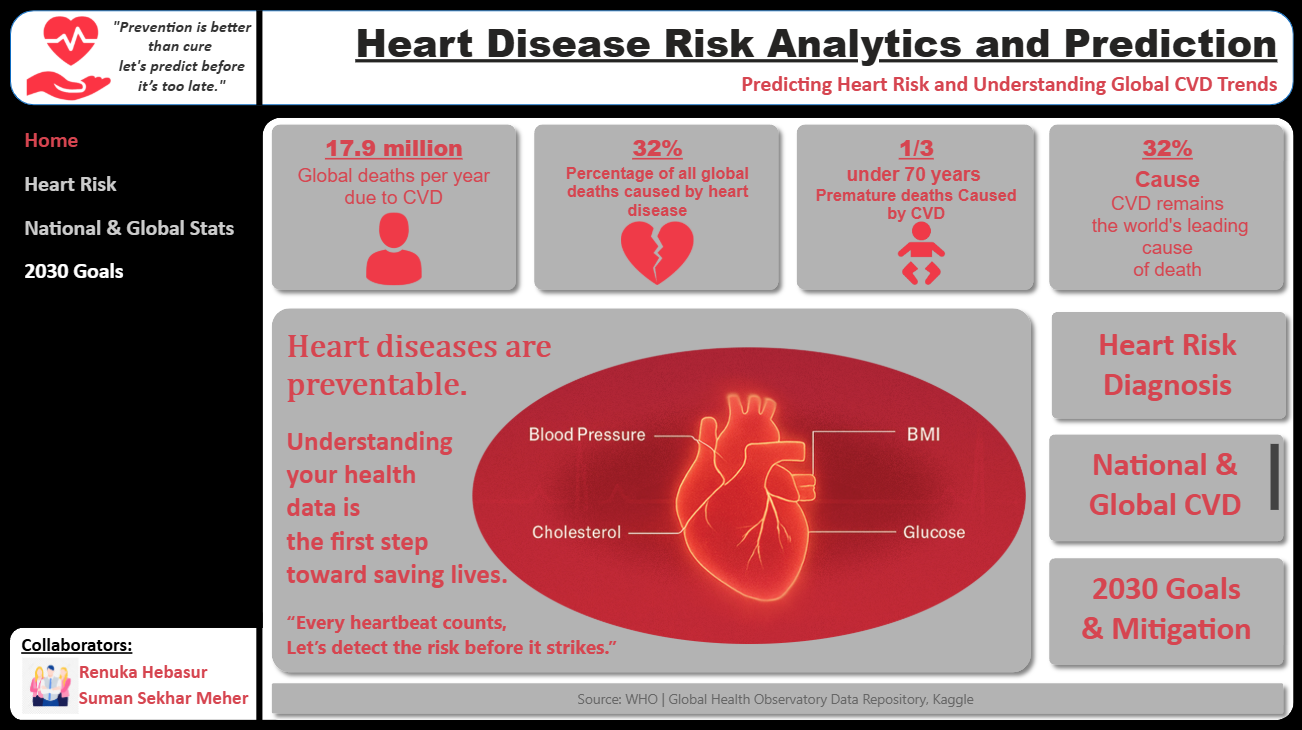

The page's visual inventory and layout, read from the dashboard file:
{"tool":"powerbi","page":{"name":"Home","canvas":[1280,720],"ordinal":0},"visuals":[{"type":"shape","box":[9.8,11,1260.1,93.3],"z":0},{"type":"textbox","box":[88.3,11,1170.6,93.3],"z":2000},{"type":"actionButton","box":[9.8,116.6,238,42.9],"z":3000},{"type":"actionButton","box":[9.8,159.5,238,42.9],"z":4000},{"type":"actionButton","box":[9.8,202.5,238,42.9],"z":5000},{"type":"actionButton","box":[9.8,245.4,238,42.9],"z":6000},{"type":"textbox","box":[673.6,65,585.3,45.4],"z":7000},{"type":"shape","box":[257.7,116.6,1012.3,591.4],"z":8000},{"type":"shape","box":[9.8,617.2,285.9,90.8],"z":9000},{"type":"textbox","box":[103.1,12.3,150.9,92],"z":10000},{"type":"shape","box":[228.2,11,52.8,93.3],"z":11000},{"type":"shape","box":[257.7,662.6,1011,47.9],"z":12000},{"type":"textbox","box":[267.5,672.4,991.4,30.7],"z":13000},{"type":"textbox","box":[72.4,643.9,185.3,39.3],"z":14000},{"type":"textbox","box":[72.4,669.7,185.3,39.3],"z":15000},{"type":"image","box":[9.8,641.7,78.5,65],"z":16000},{"type":"shape","box":[257.7,114.1,257.7,180.4],"z":17000},{"type":"shape","box":[515.3,114.1,257.7,180.4],"z":18000},{"type":"shape","box":[773,114.1,250.3,180.4],"z":19000},{"type":"shape","box":[1020.9,114.1,247.9,180.4],"z":20000},{"type":"textbox","box":[273.6,126.4,225.8,39.3],"z":21000},{"type":"textbox","box":[273.6,158.3,225.8,62.6],"z":22000},{"type":"textbox","box":[532.5,126.4,225.8,39.3],"z":23000},{"type":"textbox","box":[786.5,126.4,225.8,39.3],"z":24000},{"type":"textbox","box":[1033.1,126.4,225.8,39.3],"z":25000},{"type":"textbox","box":[1033.1,160.7,225.8,125.2],"z":26000},{"type":"textbox","box":[532.5,157.1,225.8,83.4],"z":27000},{"type":"textbox","box":[786.5,157.1,225.8,83.4],"z":28000},{"type":"shape","box":[257.7,294.5,763.2,375.5],"z":29000},{"type":"image","box":[458.9,325.2,553.4,325.2],"z":30000},{"type":"image","box":[267.5,204.9,238,81],"z":31000},{"type":"image","box":[526.4,213.5,238,72.4],"z":32000},{"type":"image","box":[785.3,213.5,238,72.4],"z":33000},{"type":"textbox","box":[276.1,319,350.9,337.4],"z":34000},{"type":"shape","box":[1020.9,539.9,247.9,122.7],"z":36002},{"type":"shape","box":[1020.9,418.4,247.9,122.7],"z":36003},{"type":"shape","box":[1023.3,298.2,247.9,122.7],"z":36004},{"type":"textbox","box":[1033.1,314.1,225.8,90.8],"z":36005},{"type":"textbox","box":[1034.4,431.9,225.8,96.9],"z":36006},{"type":"textbox","box":[1031.9,553.4,225.8,96.9],"z":36007},{"type":"shape","box":[228.2,602.5,52.8,112.9],"z":36008},{"type":"textbox","box":[16,617.2,185.3,39.3],"z":36009},{"type":"image","box":[11,12.3,112.9,92],"z":36010}]}

Visuals, with their boxes in screenshot pixels (x1, y1, x2, y2), scaled from the page's 1280x720 canvas onto the 1302x730 screenshot:
shape: x1=10 y1=11 x2=1292 y2=106
textbox: x1=90 y1=11 x2=1281 y2=106
actionButton: x1=10 y1=118 x2=252 y2=162
actionButton: x1=10 y1=162 x2=252 y2=205
actionButton: x1=10 y1=205 x2=252 y2=249
actionButton: x1=10 y1=249 x2=252 y2=292
textbox: x1=685 y1=66 x2=1281 y2=112
shape: x1=262 y1=118 x2=1292 y2=718
shape: x1=10 y1=626 x2=301 y2=718
textbox: x1=105 y1=12 x2=258 y2=106
shape: x1=232 y1=11 x2=286 y2=106
shape: x1=262 y1=672 x2=1291 y2=720
textbox: x1=272 y1=682 x2=1281 y2=713
textbox: x1=74 y1=653 x2=262 y2=693
textbox: x1=74 y1=679 x2=262 y2=719
image: x1=10 y1=651 x2=90 y2=717
shape: x1=262 y1=116 x2=524 y2=299
shape: x1=524 y1=116 x2=786 y2=299
shape: x1=786 y1=116 x2=1041 y2=299
shape: x1=1038 y1=116 x2=1291 y2=299
textbox: x1=278 y1=128 x2=508 y2=168
textbox: x1=278 y1=160 x2=508 y2=224
textbox: x1=542 y1=128 x2=771 y2=168
textbox: x1=800 y1=128 x2=1030 y2=168
textbox: x1=1051 y1=128 x2=1281 y2=168
textbox: x1=1051 y1=163 x2=1281 y2=290
textbox: x1=542 y1=159 x2=771 y2=244
textbox: x1=800 y1=159 x2=1030 y2=244
shape: x1=262 y1=299 x2=1038 y2=679
image: x1=467 y1=330 x2=1030 y2=659
image: x1=272 y1=208 x2=514 y2=290
image: x1=535 y1=216 x2=778 y2=290
image: x1=799 y1=216 x2=1041 y2=290
textbox: x1=281 y1=323 x2=638 y2=666
shape: x1=1038 y1=547 x2=1291 y2=672
shape: x1=1038 y1=424 x2=1291 y2=549
shape: x1=1041 y1=302 x2=1293 y2=427
textbox: x1=1051 y1=318 x2=1281 y2=411
textbox: x1=1052 y1=438 x2=1282 y2=536
textbox: x1=1050 y1=561 x2=1279 y2=659
shape: x1=232 y1=611 x2=286 y2=725
textbox: x1=16 y1=626 x2=205 y2=666
image: x1=11 y1=12 x2=126 y2=106
